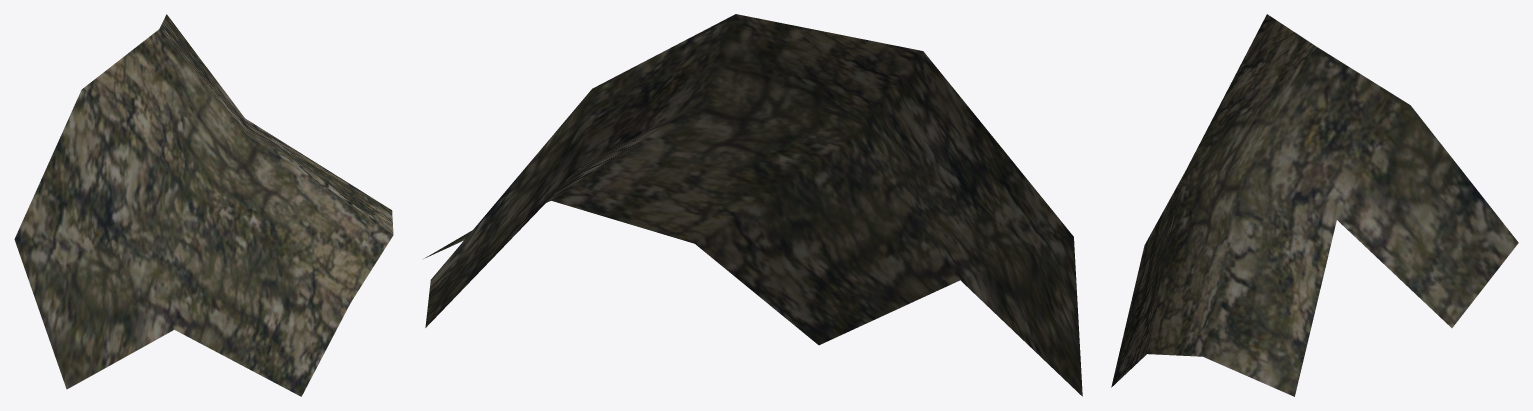
Rendered from EKH_ENTRANCE_PS_EN_LINE2603965.fbx.
The picture shows the model from 3 angles, left to right: view 1: azimuth 30°, elevation 25°; view 2: azimuth 150°, elevation 25°; view 3: azimuth 270°, elevation 25°; orthographic projection. The views are drawn at different scales.
Visible parts, largest first — view 1: EKH_ENTRANCE_PS_EN_LINE2603965; view 2: EKH_ENTRANCE_PS_EN_LINE2603965; view 3: EKH_ENTRANCE_PS_EN_LINE2603965.
Part boxes in pixels (left/top/right/bottom): EKH_ENTRANCE_PS_EN_LINE2603965: left=14, top=14, right=393, bottom=396; EKH_ENTRANCE_PS_EN_LINE2603965: left=424, top=14, right=1082, bottom=396; EKH_ENTRANCE_PS_EN_LINE2603965: left=1111, top=14, right=1518, bottom=396.
Bounding box in the file's own units: 30024 × 21514 × 24927.
Materials: 1 (1 with a texture image).
